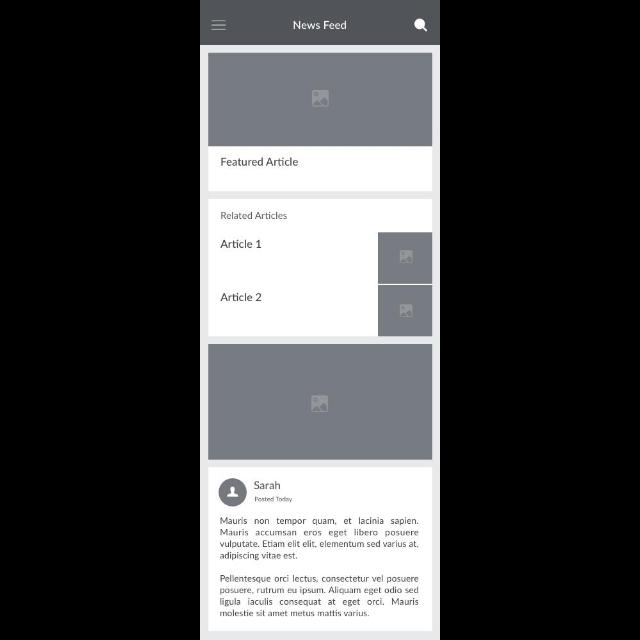icon: (219, 479, 247, 507), (415, 19, 429, 33), (212, 21, 226, 31)
image: (209, 344, 433, 460), (209, 54, 433, 146), (379, 233, 433, 283), (379, 286, 433, 336)
text: (220, 518, 418, 560), (221, 575, 419, 617), (222, 158, 300, 166), (222, 211, 288, 219), (294, 20, 346, 30), (220, 240, 262, 248), (222, 293, 262, 301), (254, 482, 280, 491), (255, 496, 292, 502)
